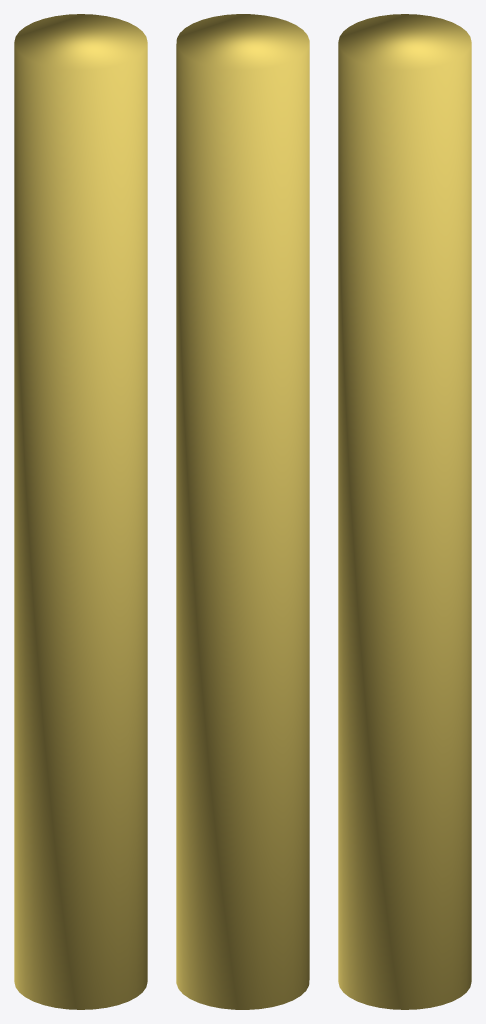
The model's file is CROSSOVER_SwayBar_DropLink_F_R.glb.
The picture shows the model from 3 angles, left to right: view 1: azimuth 90°, elevation 25°; view 2: azimuth 150°, elevation 25°; view 3: azimuth 270°, elevation 25°; orthographic projection.
Parts seen in each view (by area): view 1: CROSSOVER_SwayBar_DropLink_F_R; view 2: CROSSOVER_SwayBar_DropLink_F_R; view 3: CROSSOVER_SwayBar_DropLink_F_R.
Boxes of the visible parts, box(x1,y1,x2,y2) form: CROSSOVER_SwayBar_DropLink_F_R: box(14, 14, 147, 1009); CROSSOVER_SwayBar_DropLink_F_R: box(176, 14, 309, 1009); CROSSOVER_SwayBar_DropLink_F_R: box(338, 14, 471, 1009).
Bounding box in the file's own units: 0.018 × 0.14 × 0.018.
